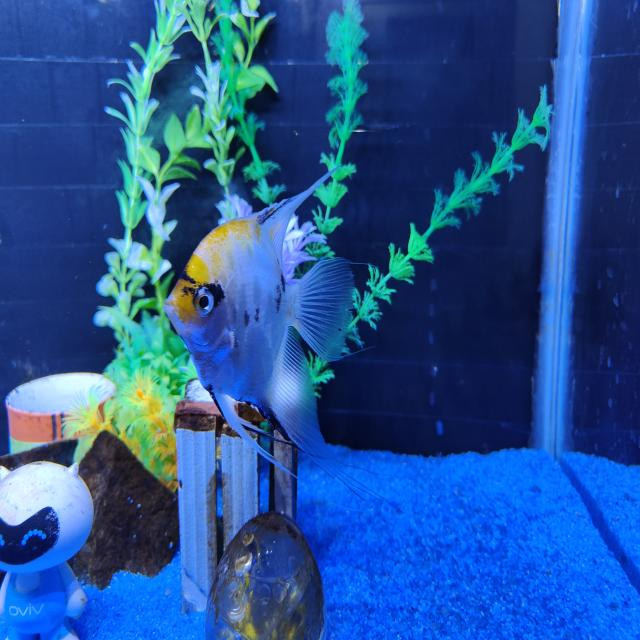Fish: (164, 173, 362, 492)
